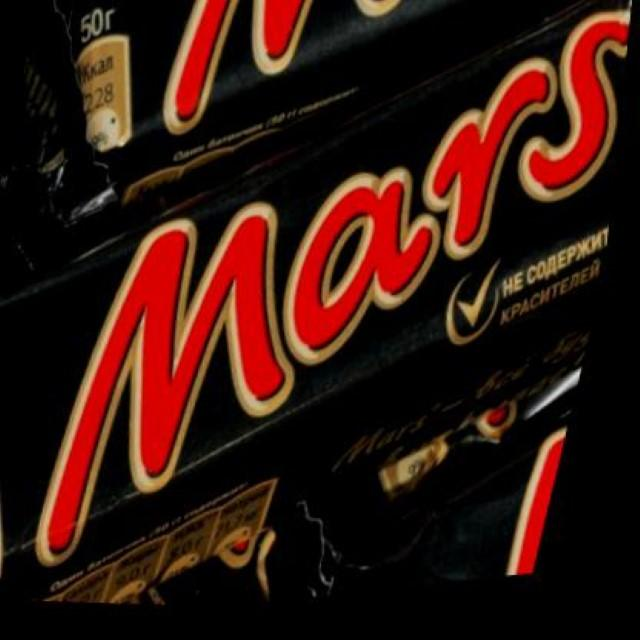mars_chocolate: (0, 0, 626, 535)
